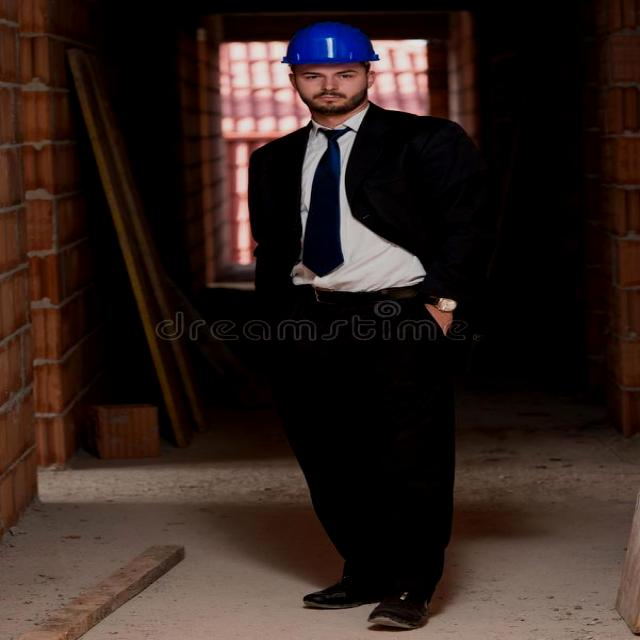face_nomask: (291, 61, 374, 108)
head_helmet: (276, 20, 381, 60)
person: (222, 9, 502, 619)
shoes: (293, 560, 386, 610), (354, 579, 438, 631)
